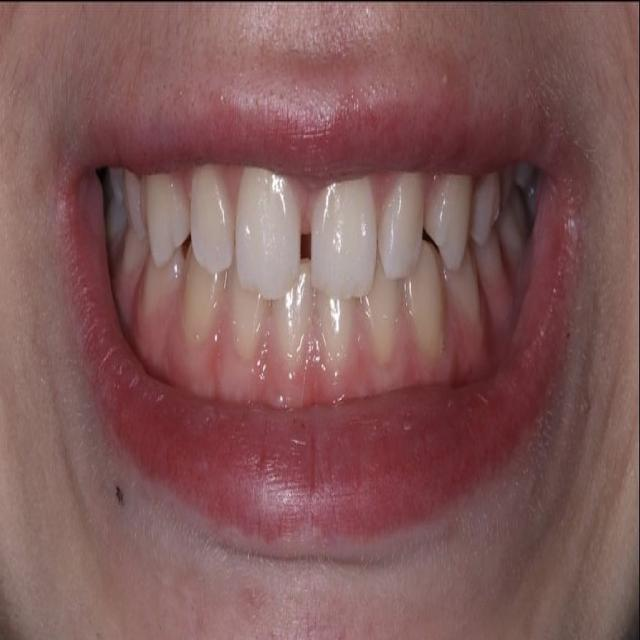tooth: (232, 165, 302, 299), (311, 182, 383, 296), (380, 170, 426, 280), (134, 176, 194, 260), (190, 175, 234, 275), (405, 278, 448, 352), (224, 274, 260, 355), (366, 295, 404, 369), (314, 304, 357, 364), (138, 262, 178, 316), (185, 268, 212, 334), (285, 295, 303, 353)
